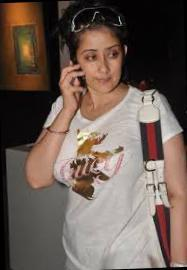Drunk: (81, 32, 123, 91)
